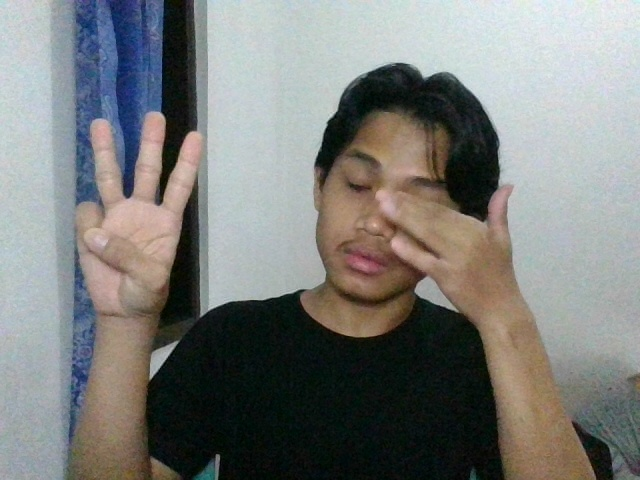Six: (62, 94, 217, 339)
